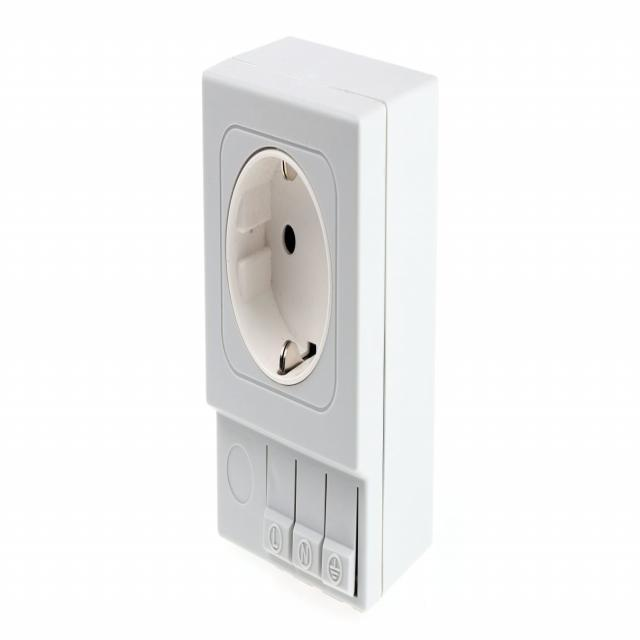typeb: (216, 103, 353, 413)
